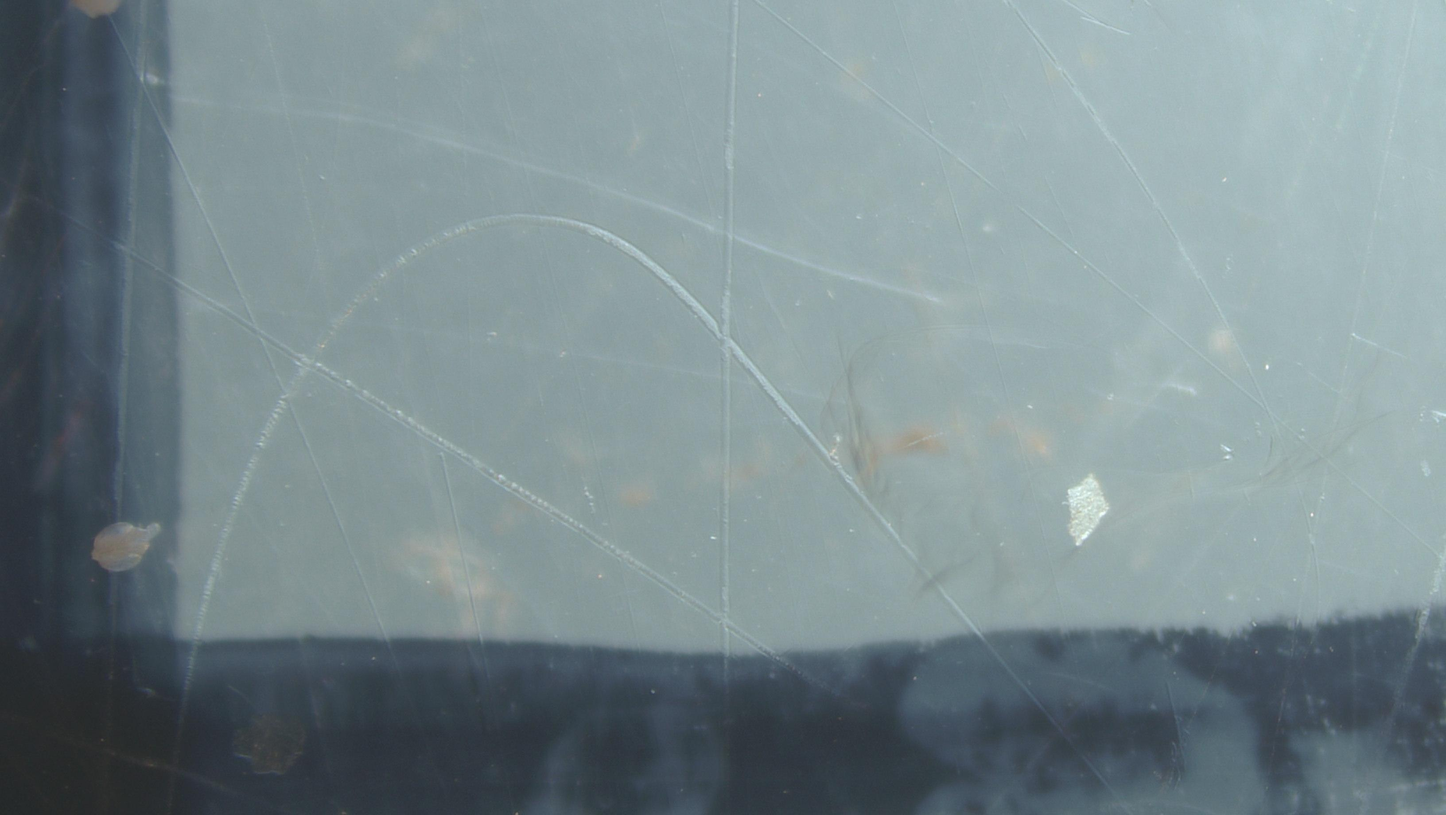live: (92, 522, 161, 573)
